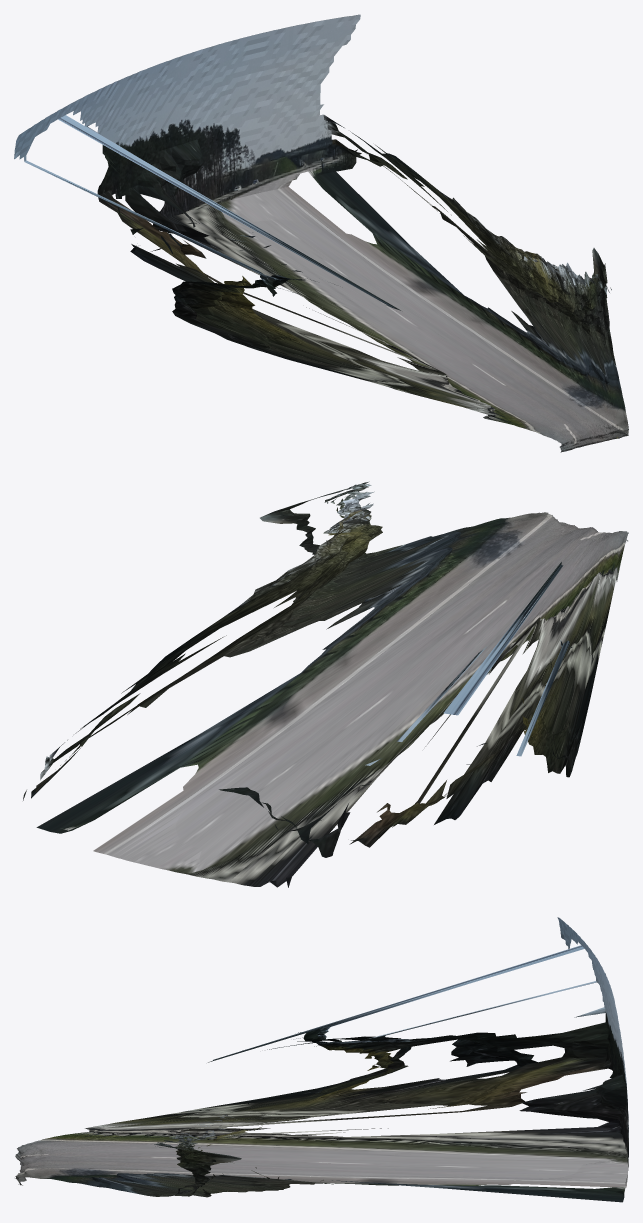
3 renders of one model, top to bottom at view 1: azimuth 30°, elevation 25°; view 2: azimuth 150°, elevation 25°; view 3: azimuth 270°, elevation 25°, orthographic. The views are drawn at different scales.
Parts seen in each view (by area): view 1: defaultobject; view 2: defaultobject; view 3: defaultobject.
Boxes of the visible parts, left/top/right/bottom form: defaultobject: left=14, top=14, right=628, bottom=452; defaultobject: left=23, top=481, right=628, bottom=887; defaultobject: left=15, top=917, right=628, bottom=1202.
Bounding box in the file's own units: 29.62 × 12.04 × 44.48.
Materials: 1 (1 with a texture image).
